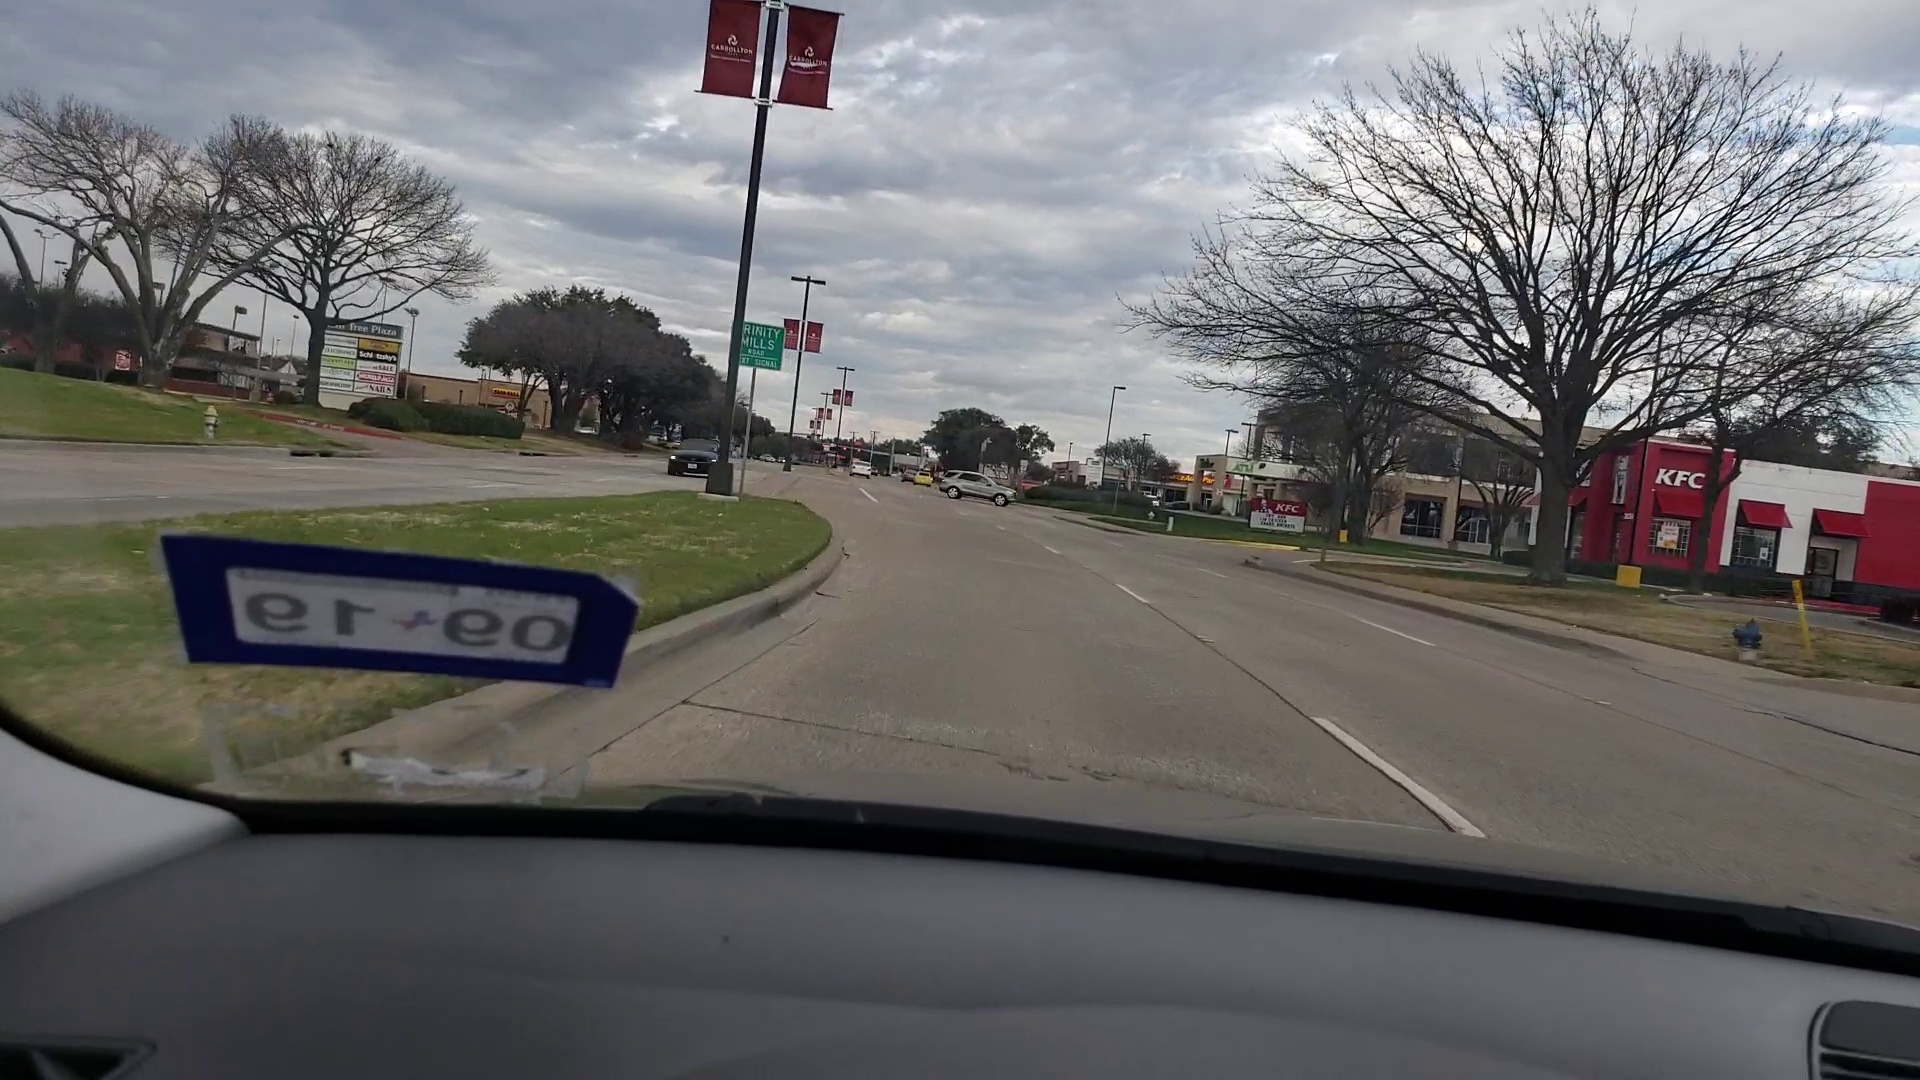car: (669, 433, 735, 477), (940, 469, 1019, 506), (849, 458, 872, 479), (916, 472, 932, 485), (902, 469, 915, 483), (760, 452, 775, 462)
traffic light: (855, 447, 864, 454), (843, 447, 851, 450)
